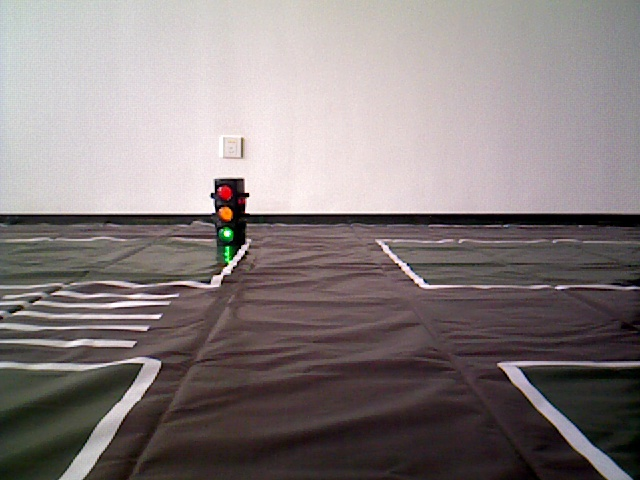green: (215, 181, 244, 242)
